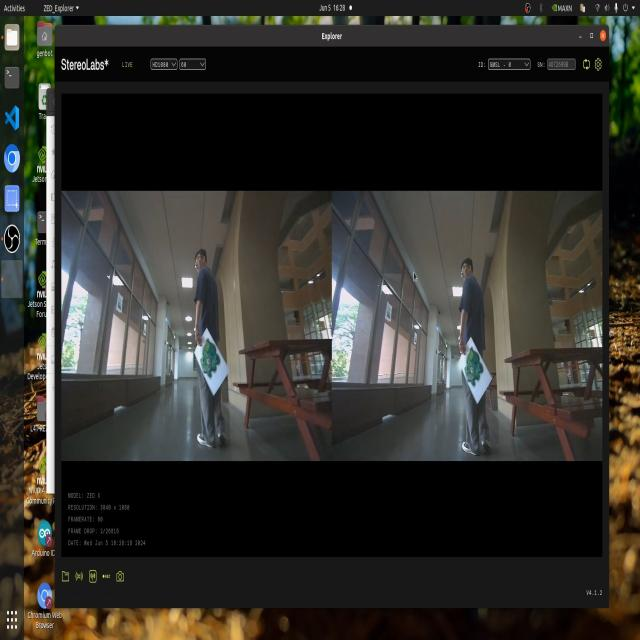green: (190, 334, 230, 385), (463, 342, 488, 393)
